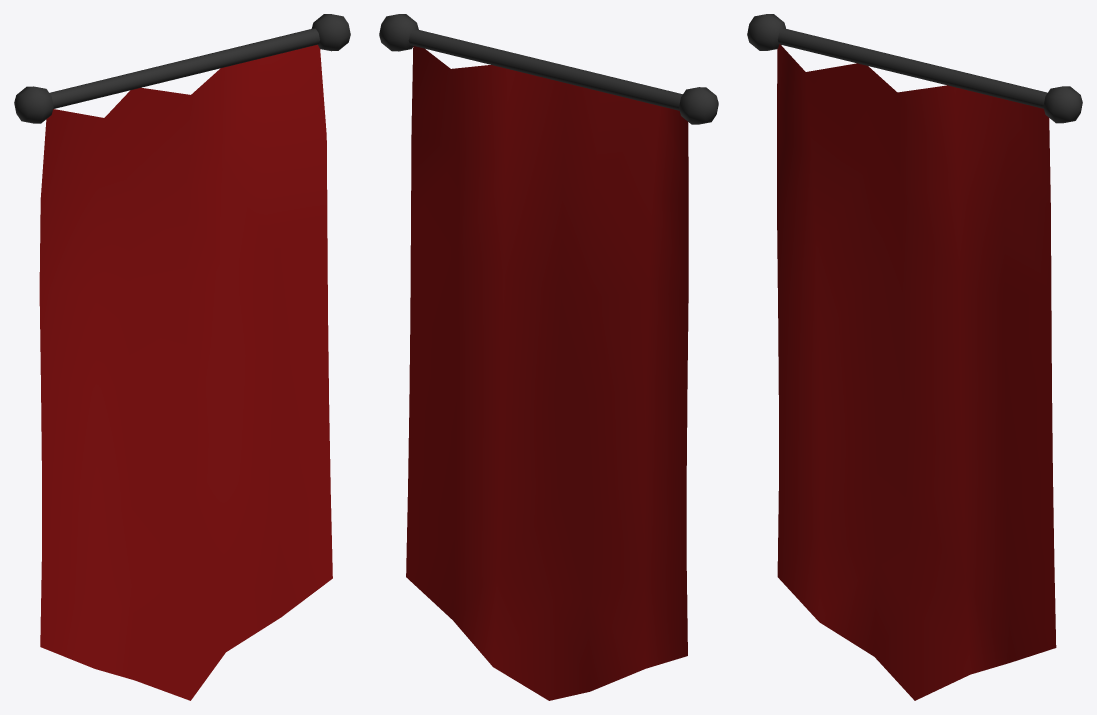
Rendered from Wall_Banner_4.fbx.
The picture shows the model from 3 angles, left to right: view 1: azimuth 30°, elevation 25°; view 2: azimuth 150°, elevation 25°; view 3: azimuth 330°, elevation 25°; orthographic projection.
Visible parts, largest first — view 1: 1_Wall_Banner_4; view 2: 1_Wall_Banner_4; view 3: 1_Wall_Banner_4.
Boxes of the visible parts, left/top/right/bottom form: 1_Wall_Banner_4: left=14, top=14, right=350, bottom=700; 1_Wall_Banner_4: left=379, top=14, right=718, bottom=700; 1_Wall_Banner_4: left=747, top=14, right=1082, bottom=700.
Size of the model in its own units: 76.52 by 143 by 10.32.
